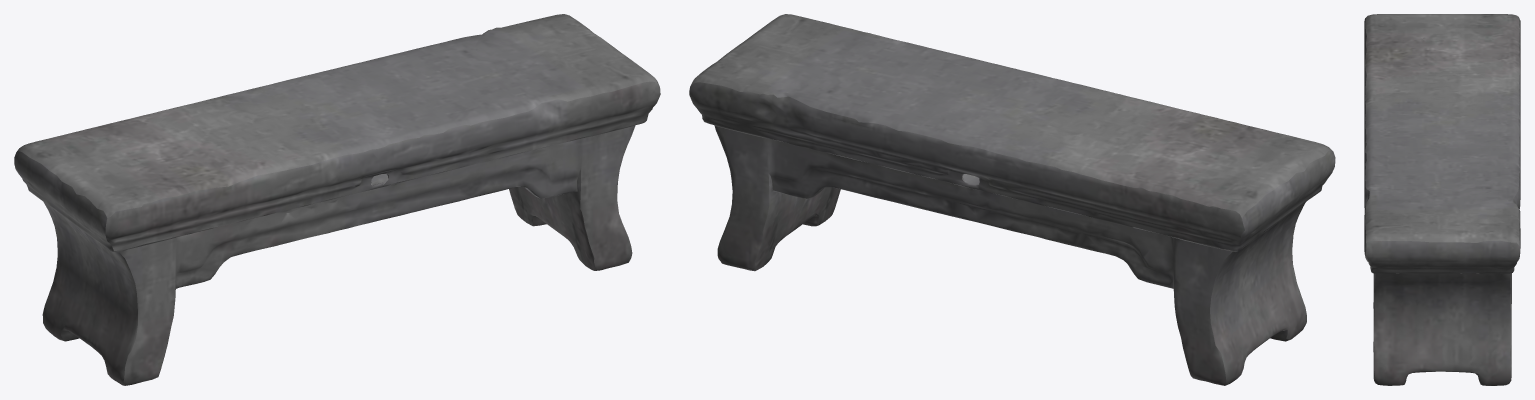
File: bench.glb
The picture shows the model from 3 angles, left to right: view 1: azimuth 30°, elevation 25°; view 2: azimuth 150°, elevation 25°; view 3: azimuth 270°, elevation 25°; orthographic projection. The views are drawn at different scales.
Parts seen in each view (by area): view 1: geometry_0; view 2: geometry_0; view 3: geometry_0.
Part boxes in pixels (box(x1,y1,x2,y2)): geometry_0: box(14, 14, 660, 385); geometry_0: box(689, 14, 1335, 385); geometry_0: box(1364, 14, 1520, 385).
Bounding box in the file's own units: 1.8 × 0.5839 × 0.5204.
Materials: 1 (1 with a texture image).
